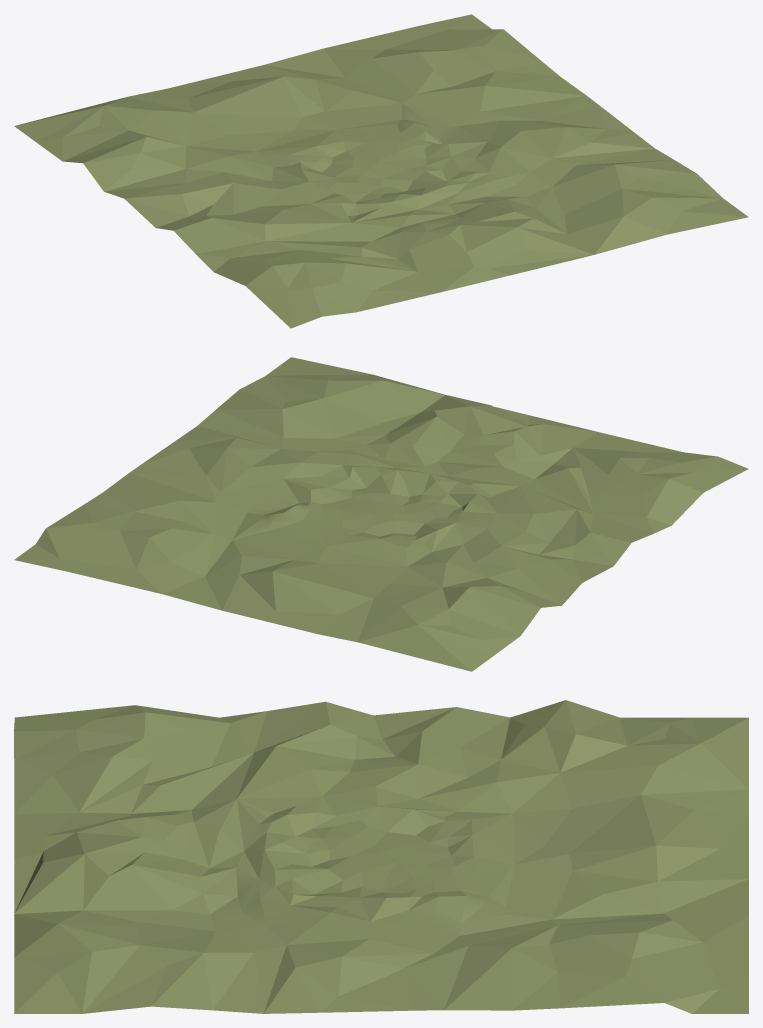
File: Terrain.fbx
3 renders of one model, top to bottom at view 1: azimuth 30°, elevation 25°; view 2: azimuth 150°, elevation 25°; view 3: azimuth 270°, elevation 25°, orthographic. The views are drawn at different scales.
Parts seen in each view (by area): view 1: pPlane12; view 2: pPlane12; view 3: pPlane12.
Part boxes in pixels (<box>): pPlane12: <box>14,14,748,328</box>; pPlane12: <box>14,357,748,671</box>; pPlane12: <box>14,700,748,1013</box>.
Bounding box in the file's own units: 20.8 × 0.9774 × 21.81.
